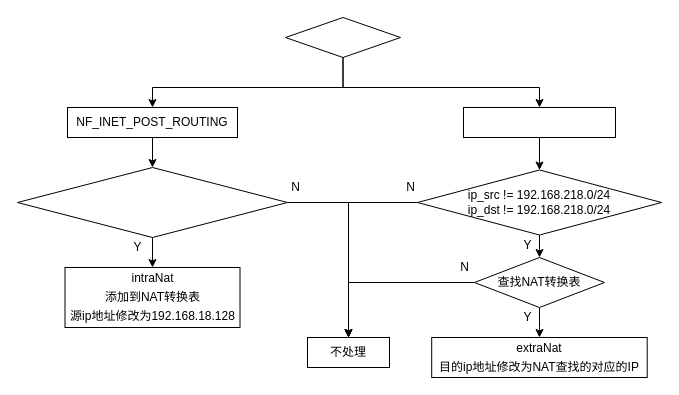
This 679x395 diagram has some shape labels left out. Here are the shapes that lost their labels. From the top down, the box of each, then its label:
(284, 16, 400, 58): Netfilter hook
(462, 106, 616, 138): NF_INET_PRE_ROUTING
(16, 166, 288, 238): ip_src == 192.168.218.0/24 ip_dst != 192.168.218.0/24
